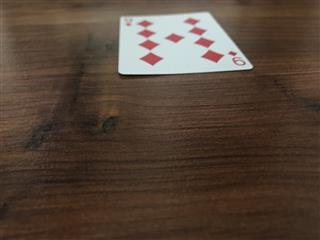NineOfDiamonds: (116, 11, 253, 75)
